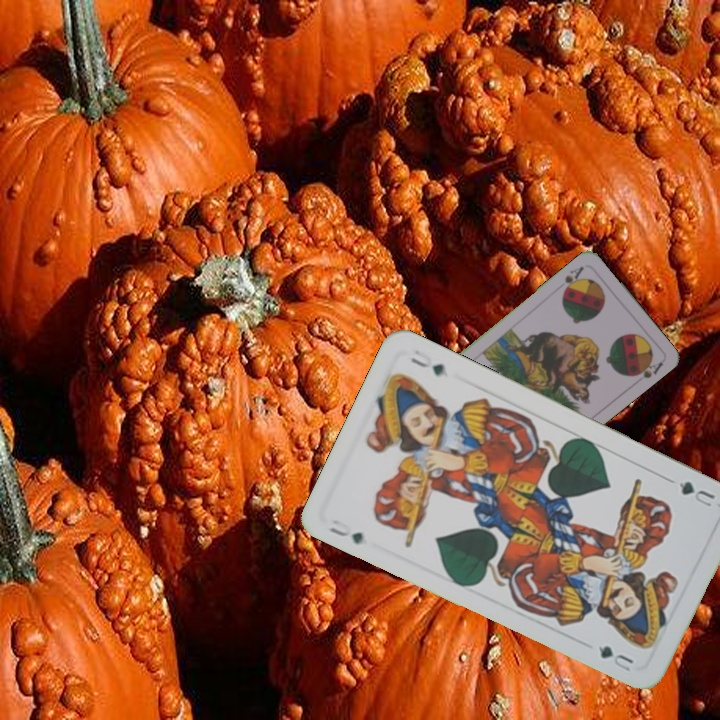GU: (674, 477, 718, 510), (325, 515, 366, 547)
SA: (559, 262, 587, 296)
